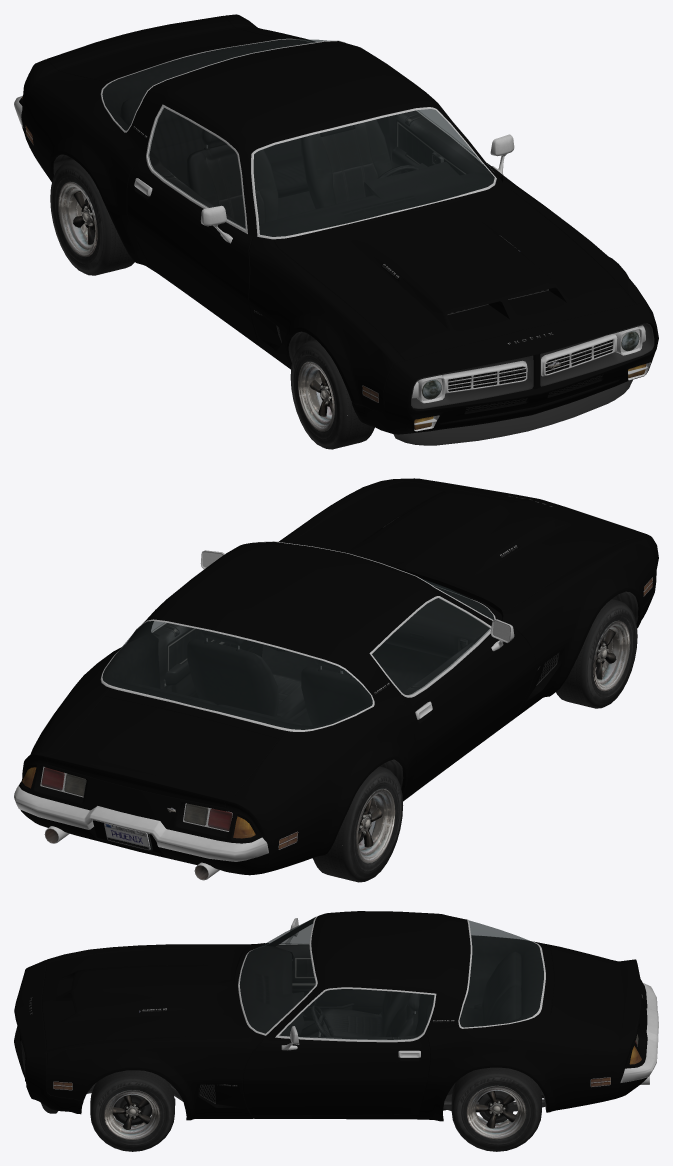
File: pontiac.glb
The picture shows the model from 3 angles, top to bottom: view 1: azimuth 30°, elevation 25°; view 2: azimuth 150°, elevation 25°; view 3: azimuth 270°, elevation 25°; orthographic projection. The views are drawn at different scales.
Parts seen in each view (by area): view 1: Body_body_0, Hood_body_0, Windshield_UCB_GLASS_CLEAN_0, Seats_GEN4DR_INTERIOR_0, Door_FR_body_0, Grill_UCB_BOTTOM_0, Trunkdoor_body_0, Doorglass_FR_UCB_GLASS_CLEAN_0, Dashboard_GEN4DR_INTERIOR_0, Wheel_RR_RIMMUSCLE_01_0, Wheel_FR_RIMMUSCLE_01_0, Interior_GEN4DR_INTERIOR_0 (+7 smaller); view 2: Body_body_0, Hood_body_0, Glass_rear_UCB_GLASS_CLEAN_0, Trunkdoor_body_0, Door_FR_body_0, Seats_GEN4DR_INTERIOR_0, Interior_GEN4DR_INTERIOR_0, Doorglass_FR_UCB_GLASS_CLEAN_0, Wheel_RR_RIMMUSCLE_01_0, Wheel_FR_RIMMUSCLE_01_0, Bumper_rear, Dashboard_GEN4DR_INTERIOR_0 (+9 smaller); view 3: Body_body_0, Hood_body_0, Door_FL_body_0, Glass_rear_UCB_GLASS_CLEAN_0, Doorglass_FL_UCB_GLASS_CLEAN_0, Wheel_RL_RIMMUSCLE_01_0, Seats_GEN4DR_INTERIOR_0, Trunkdoor_body_0, Windshield_UCB_GLASS_CLEAN_0, Wheel_FL_RIMMUSCLE_01_0, Interior_GEN4DR_INTERIOR_0, Dashboard_GEN4DR_INTERIOR_0 (+8 smaller).
Part boxes in pixels (left/top/right/bottom): Body_body_0: left=19, top=14, right=658, bottom=434; Hood_body_0: left=274, top=184, right=634, bottom=360; Windshield_UCB_GLASS_CLEAN_0: left=254, top=109, right=494, bottom=236; Seats_GEN4DR_INTERIOR_0: left=120, top=95, right=391, bottom=227; Door_FR_body_0: left=127, top=157, right=258, bottom=344; Grill_UCB_BOTTOM_0: left=411, top=323, right=654, bottom=408; Trunkdoor_body_0: left=46, top=15, right=278, bottom=81; Doorglass_FR_UCB_GLASS_CLEAN_0: left=148, top=107, right=245, bottom=229; Dashboard_GEN4DR_INTERIOR_0: left=259, top=162, right=494, bottom=236; Wheel_RR_RIMMUSCLE_01_0: left=50, top=159, right=134, bottom=275; Wheel_FR_RIMMUSCLE_01_0: left=290, top=340, right=374, bottom=449; Interior_GEN4DR_INTERIOR_0: left=102, top=39, right=492, bottom=219; Body_body_0: left=19, top=478, right=658, bottom=875; Hood_body_0: left=290, top=481, right=634, bottom=612; Glass_rear_UCB_GLASS_CLEAN_0: left=102, top=621, right=372, bottom=729; Trunkdoor_body_0: left=46, top=696, right=279, bottom=807; Door_FR_body_0: left=401, top=628, right=535, bottom=795; Seats_GEN4DR_INTERIOR_0: left=126, top=629, right=372, bottom=725; Interior_GEN4DR_INTERIOR_0: left=102, top=621, right=448, bottom=729; Doorglass_FR_UCB_GLASS_CLEAN_0: left=372, top=598, right=490, bottom=694; Wheel_RR_RIMMUSCLE_01_0: left=312, top=766, right=403, bottom=882; Wheel_FR_RIMMUSCLE_01_0: left=556, top=599, right=637, bottom=708; Bumper_rear: left=14, top=785, right=268, bottom=861; Dashboard_GEN4DR_INTERIOR_0: left=384, top=586, right=494, bottom=658; Body_body_0: left=14, top=911, right=647, bottom=1121; Hood_body_0: left=42, top=946, right=249, bottom=1049; Door_FL_body_0: left=243, top=1034, right=429, bottom=1115; Glass_rear_UCB_GLASS_CLEAN_0: left=459, top=920, right=543, bottom=1027; Doorglass_FL_UCB_GLASS_CLEAN_0: left=279, top=989, right=433, bottom=1039; Wheel_RL_RIMMUSCLE_01_0: left=451, top=1067, right=541, bottom=1151; Seats_GEN4DR_INTERIOR_0: left=321, top=951, right=521, bottom=1037; Trunkdoor_body_0: left=550, top=949, right=641, bottom=1032; Windshield_UCB_GLASS_CLEAN_0: left=240, top=918, right=315, bottom=1033; Wheel_FL_RIMMUSCLE_01_0: left=90, top=1070, right=174, bottom=1151; Interior_GEN4DR_INTERIOR_0: left=266, top=917, right=543, bottom=1036; Dashboard_GEN4DR_INTERIOR_0: left=240, top=946, right=304, bottom=1036.
Size of what is drawn, in the model's own units: 2.09 by 1.33 by 4.89.
Materials: 8 (7 with a texture image).
